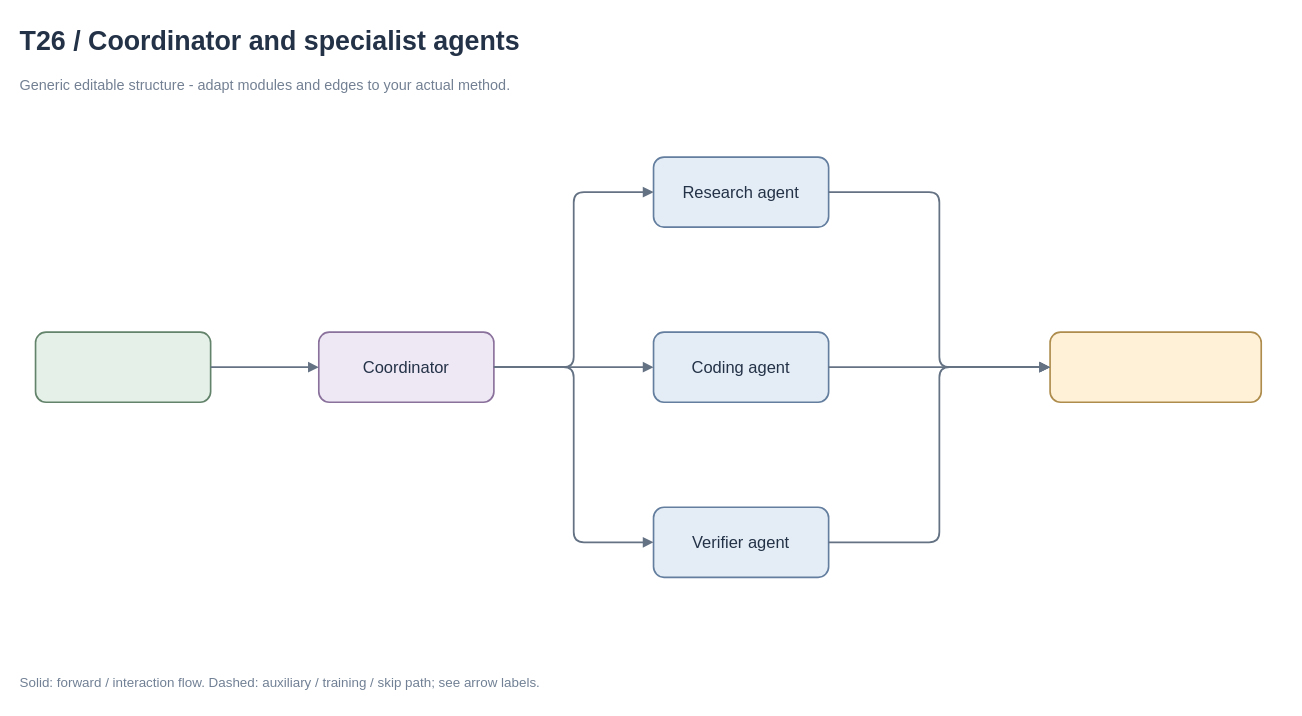
This 1302x716 diagram has some shape labels left out. Here are the shapes that lost their labels. From the top down, the centre of each, then its label:
At [122,367]: "Problem".
At [1155,367]: "Synthesize + verify".
